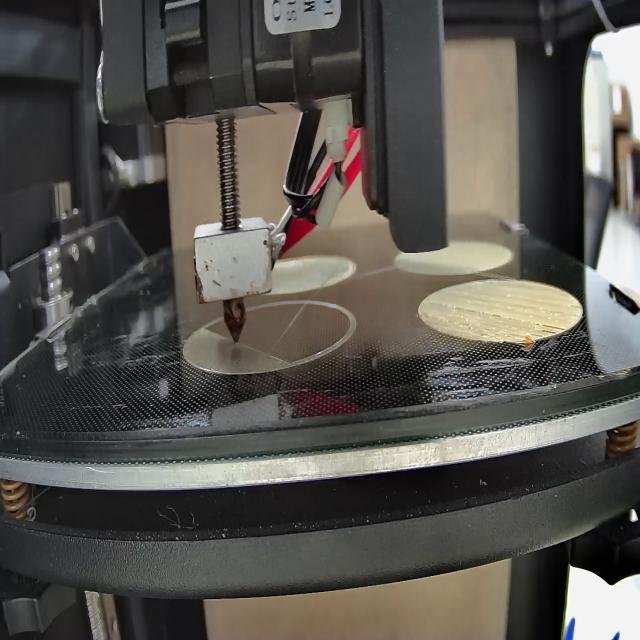under_extrusion: (432, 297, 503, 320), (528, 319, 566, 341), (567, 298, 583, 314)
